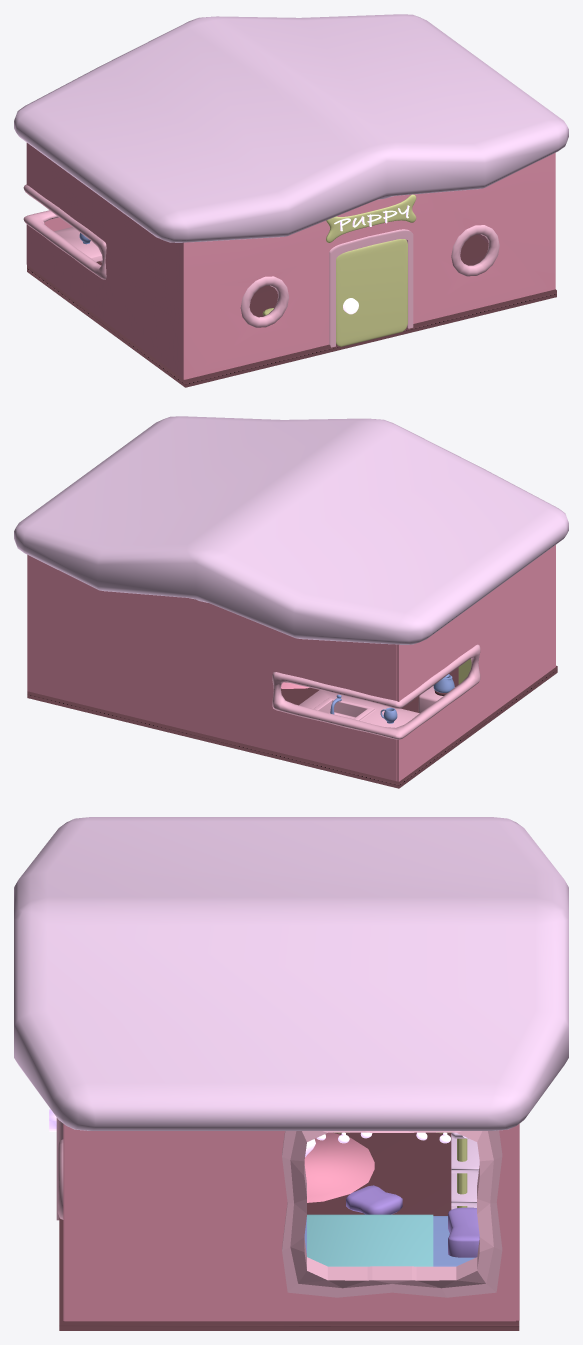
Rendered from puppy_house.fbx.
3 renders of one model, top to bottom at view 1: azimuth 30°, elevation 25°; view 2: azimuth 150°, elevation 25°; view 3: azimuth 270°, elevation 25°, orthographic. The views are drawn at different scales.
Parts seen in each view (by area): view 1: ceiling, front wall, left wall, door, floor, Cube, name tag, kitchen sink; view 2: ceiling, left wall, floor, Cube, kitchen sink; view 3: ceiling, right wall, floor, bed, coffee table, trophy shelf, cushion, front wall, left wall.
Boxes of the visible parts, left/top/right/bottom form: ceiling: left=14, top=14, right=568, bottom=242; front wall: left=184, top=153, right=555, bottom=379; left wall: left=26, top=143, right=184, bottom=379; door: left=336, top=239, right=407, bottom=346; floor: left=27, top=234, right=556, bottom=387; Cube: left=23, top=184, right=106, bottom=279; name tag: left=326, top=194, right=416, bottom=242; kitchen sink: left=54, top=227, right=102, bottom=262; ceiling: left=14, top=416, right=568, bottom=644; left wall: left=27, top=545, right=555, bottom=781; floor: left=27, top=665, right=557, bottom=788; Cube: left=272, top=644, right=480, bottom=739; kitchen sink: left=299, top=690, right=419, bottom=727; ceiling: left=14, top=817, right=568, bottom=1130; right wall: left=64, top=1124, right=515, bottom=1321; floor: left=59, top=1132, right=519, bottom=1330; bed: left=304, top=1207, right=479, bottom=1266; coffee table: left=304, top=1132, right=374, bottom=1202; trophy shelf: left=451, top=1132, right=479, bottom=1209; cushion: left=346, top=1185, right=402, bottom=1214; front wall: left=56, top=1118, right=64, bottom=1320; left wall: left=516, top=1124, right=519, bottom=1320.
Size of the model in its own units: 1564 by 722 by 1249.
